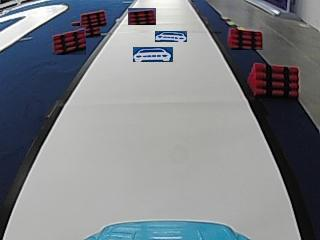bomb: (248, 63, 300, 96)
